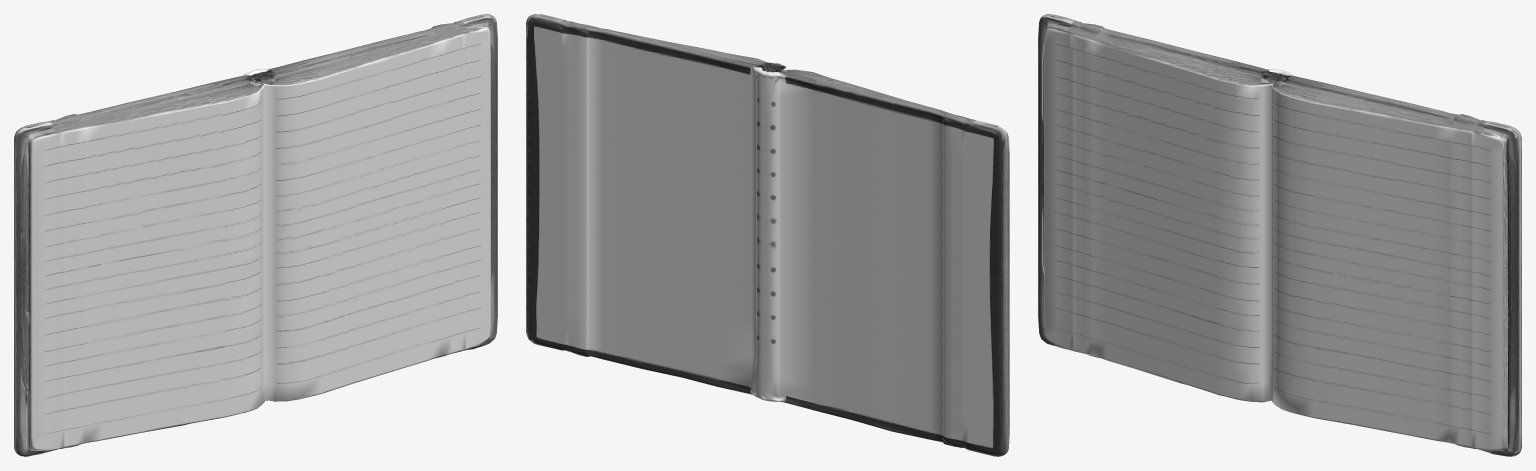
File: Meshy_AI_carnet_0323164022_texture.fbx
3 renders of one model, left to right at view 1: azimuth 30°, elevation 25°; view 2: azimuth 150°, elevation 25°; view 3: azimuth 330°, elevation 25°, orthographic.
Visible parts, largest first — view 1: Mesh_0.001; view 2: Mesh_0.001; view 3: Mesh_0.001.
Boxes of the visible parts, x1,y1,x2,y2 form: Mesh_0.001: [14, 14, 497, 456]; Mesh_0.001: [526, 14, 1009, 456]; Mesh_0.001: [1038, 14, 1521, 456].
Bounding box in the file's own units: 154 × 100 × 11.04.
Materials: 1 (1 with a texture image).
